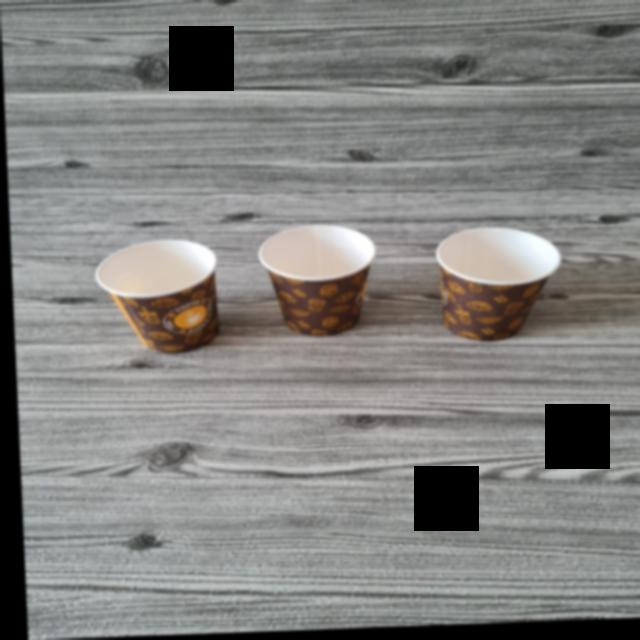cups: (84, 242, 226, 358), (254, 226, 382, 348), (427, 230, 559, 345)
